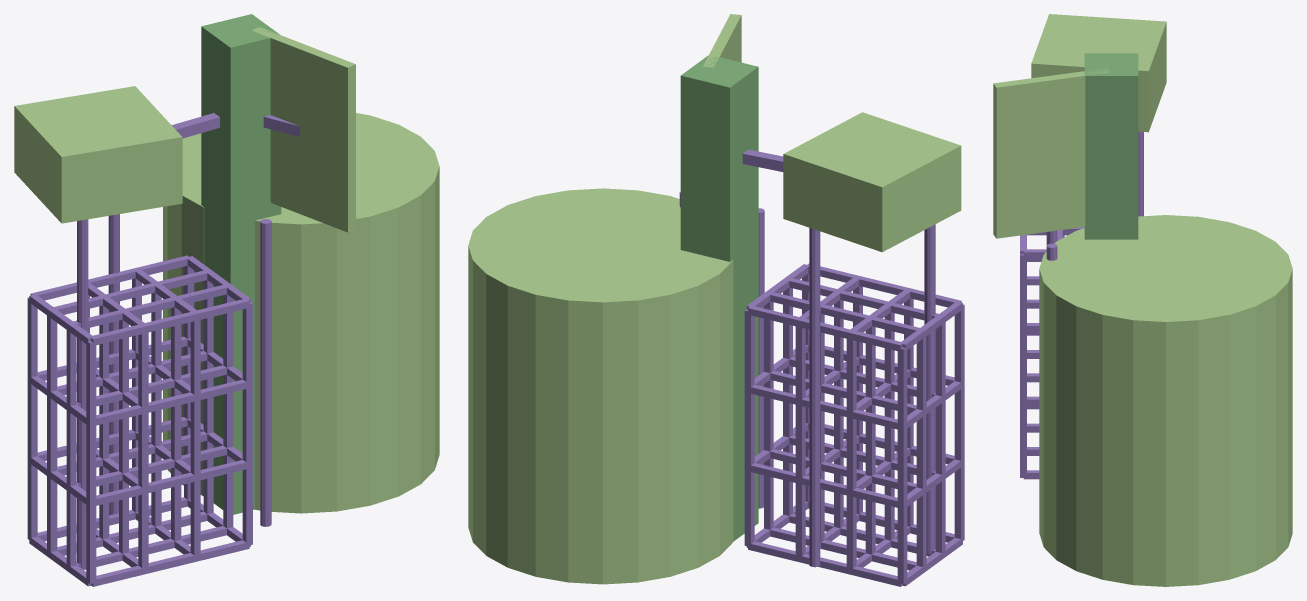
File: folie_tag_075.glb
The picture shows the model from 3 angles, left to right: view 1: azimuth 30°, elevation 25°; view 2: azimuth 150°, elevation 25°; view 3: azimuth 270°, elevation 25°; orthographic projection. The views are drawn at different scales.
Parts seen in each view (by area): view 1: folie_tag_075_00_drum, folie_tag_075_01_cage, folie_tag_075_core, folie_tag_075_02_block, folie_tag_075_03_panel, folie_tag_075_line; view 2: folie_tag_075_00_drum, folie_tag_075_01_cage, folie_tag_075_core, folie_tag_075_02_block, folie_tag_075_line, folie_tag_075_03_panel; view 3: folie_tag_075_00_drum, folie_tag_075_03_panel, folie_tag_075_core, folie_tag_075_02_block, folie_tag_075_01_cage, folie_tag_075_line.
Part boxes in pixels (<box>): folie_tag_075_00_drum: <box>163,113,439,513</box>; folie_tag_075_01_cage: <box>27,255,252,586</box>; folie_tag_075_core: <box>201,14,281,514</box>; folie_tag_075_02_block: <box>14,86,182,223</box>; folie_tag_075_03_panel: <box>252,27,355,232</box>; folie_tag_075_line: <box>77,113,299,567</box>; folie_tag_075_00_drum: <box>468,188,733,584</box>; folie_tag_075_01_cage: <box>744,263,964,586</box>; folie_tag_075_core: <box>680,55,758,540</box>; folie_tag_075_02_block: <box>783,112,961,252</box>; folie_tag_075_line: <box>679,149,935,567</box>; folie_tag_075_03_panel: <box>703,14,741,67</box>; folie_tag_075_00_drum: <box>1039,215,1292,586</box>; folie_tag_075_03_panel: <box>993,68,1109,238</box>; folie_tag_075_core: <box>1084,53,1138,239</box>; folie_tag_075_02_block: <box>1031,14,1166,132</box>; folie_tag_075_01_cage: <box>1020,227,1084,479</box>; folie_tag_075_line: <box>1046,131,1143,260</box>.
Size of the model in its own units: 9.19 by 9.78 by 6.15.
